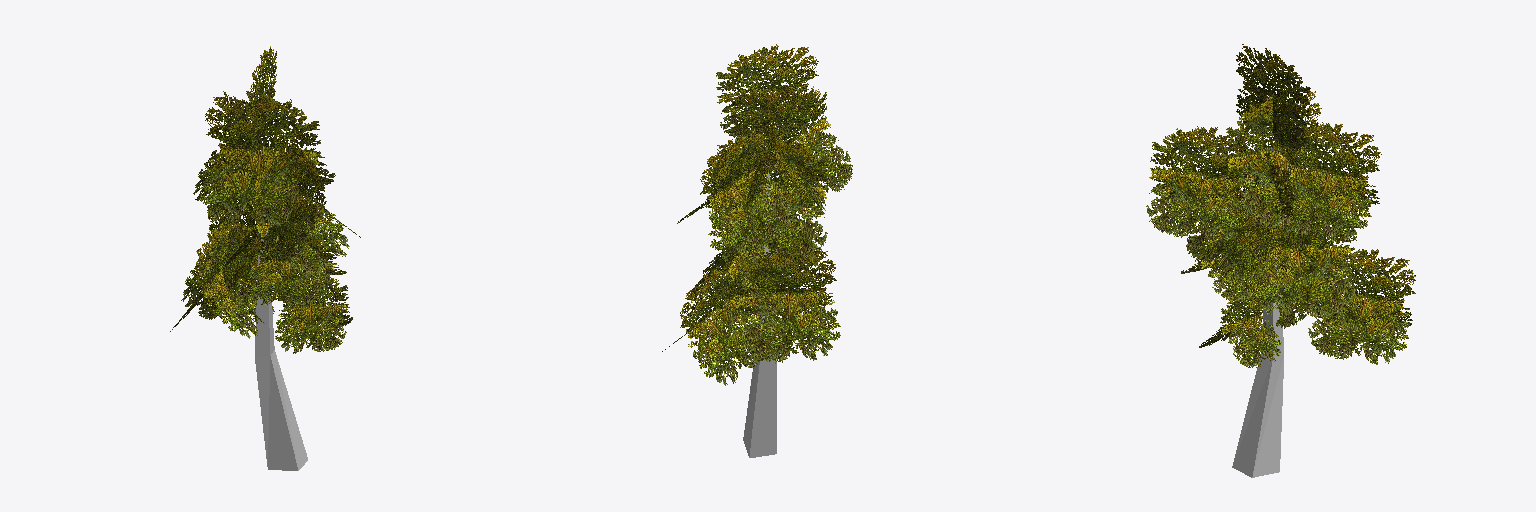
The picture shows the model from 3 angles: view 1: azimuth 30°, elevation 25°; view 2: azimuth 150°, elevation 25°; view 3: azimuth 270°, elevation 25°; orthographic projection.
Parts seen in each view (by area): view 1: elwynntreemid01.m2; view 2: elwynntreemid01.m2; view 3: elwynntreemid01.m2.
Boxes of the visible parts, x1=… form: elwynntreemid01.m2: x1=170, y1=46, x2=360, y2=470; elwynntreemid01.m2: x1=662, y1=44, x2=852, y2=457; elwynntreemid01.m2: x1=1146, y1=44, x2=1415, y2=477.
Size of the model in its own units: 5.4 by 12.23 by 7.58.
2 materials, 1 textured.